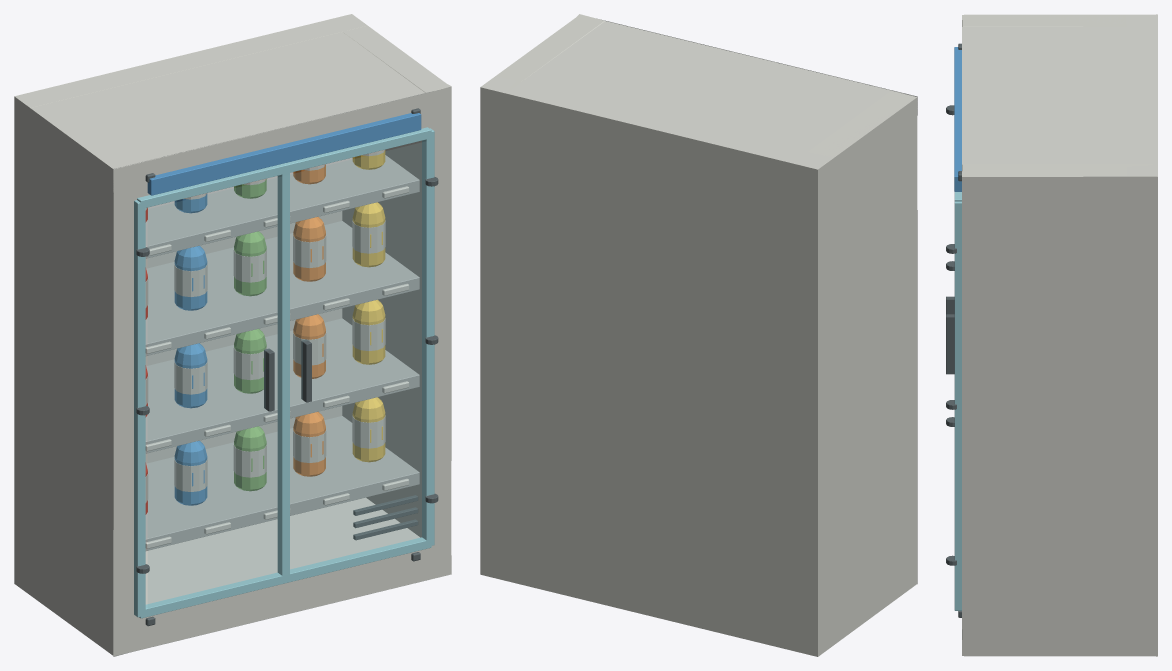
File: Fridge_Drinks.fbx
The picture shows the model from 3 angles, left to right: view 1: azimuth 30°, elevation 25°; view 2: azimuth 150°, elevation 25°; view 3: azimuth 270°, elevation 25°; orthographic projection.
Parts seen in each view (by area): view 1: Fridge_Drinks__LPCXFER, Fridge_Drinks_Item_02_bottle__LPCXFER, Fridge_Drinks_Item_12_bottle__LPCXFER, Fridge_Drinks_Item_10_bottle__LPCXFER, Fridge_Drinks_Item_15_bottle__LPCXFER, Fridge_Drinks_Item_05_bottle__LPCXFER, Fridge_Drinks_Item_07_bottle__LPCXFER, Fridge_Drinks_Item_03_bottle__LPCXFER, Fridge_Drinks_Item_14_bottle__LPCXFER, Fridge_Drinks_Item_04_bottle__LPCXFER, Fridge_Drinks_Item_13_bottle__LPCXFER, Fridge_Drinks_Item_08_bottle__LPCXFER (+1 smaller); view 2: Fridge_Drinks__LPCXFER; view 3: Fridge_Drinks__LPCXFER.
Boxes of the visible parts, x1,y1,x2,y2 form: Fridge_Drinks__LPCXFER: (14, 14, 451, 656); Fridge_Drinks_Item_02_bottle__LPCXFER: (174, 440, 207, 505); Fridge_Drinks_Item_12_bottle__LPCXFER: (174, 245, 207, 310); Fridge_Drinks_Item_10_bottle__LPCXFER: (352, 299, 385, 364); Fridge_Drinks_Item_15_bottle__LPCXFER: (352, 202, 385, 267); Fridge_Drinks_Item_05_bottle__LPCXFER: (352, 397, 385, 462); Fridge_Drinks_Item_07_bottle__LPCXFER: (174, 343, 207, 408); Fridge_Drinks_Item_03_bottle__LPCXFER: (233, 426, 266, 491); Fridge_Drinks_Item_14_bottle__LPCXFER: (293, 216, 326, 281); Fridge_Drinks_Item_04_bottle__LPCXFER: (293, 411, 326, 476); Fridge_Drinks_Item_13_bottle__LPCXFER: (233, 231, 266, 296); Fridge_Drinks_Item_08_bottle__LPCXFER: (233, 328, 266, 393); Fridge_Drinks__LPCXFER: (480, 14, 917, 656); Fridge_Drinks__LPCXFER: (946, 14, 1157, 656).
Bounding box in the file's own units: 145 × 200 × 80.
